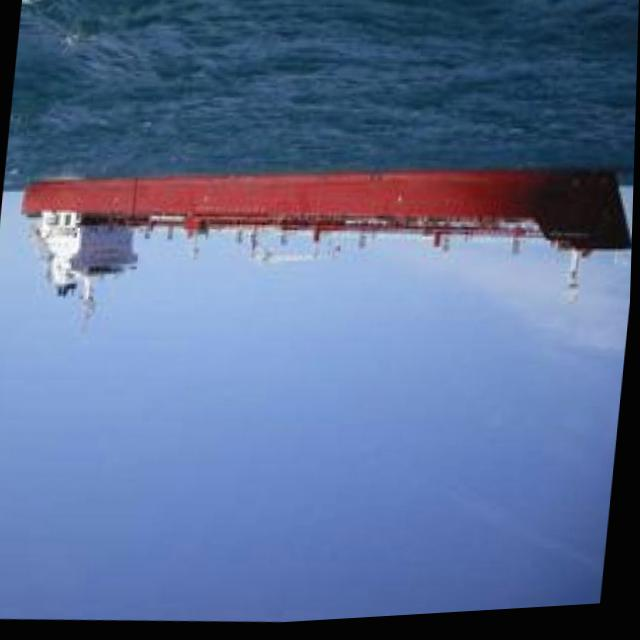ship2: (21, 171, 634, 325)
